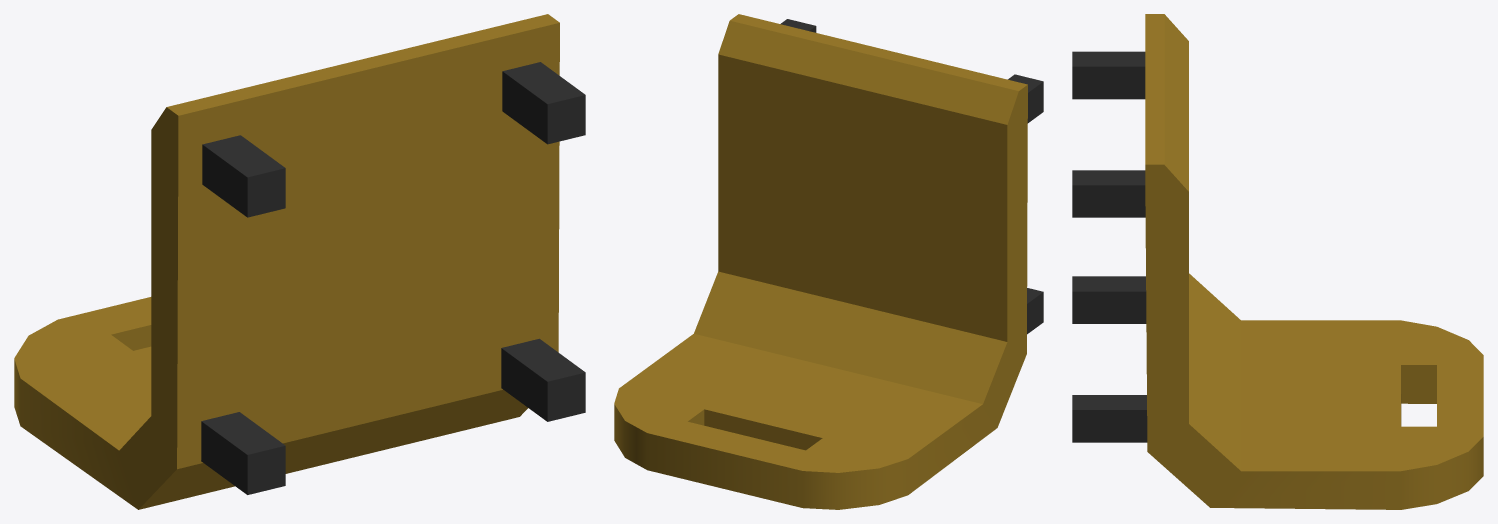
The model's file is Chair 03.FBX.
3 views of the same model, side by side, from view 1: azimuth 30°, elevation 25°; view 2: azimuth 150°, elevation 25°; view 3: azimuth 270°, elevation 25° (orthographic). The views are drawn at different scales.
Visible parts, largest first — view 1: Chair 03; view 2: Chair 03; view 3: Chair 03.
Part boxes in pixels (x1,y1,x2,y2): Chair 03: (14,14,585,509); Chair 03: (614,14,1043,509); Chair 03: (1072,14,1483,509).
Bounding box in the file's own units: 66.81 × 71.5 × 77.02.
